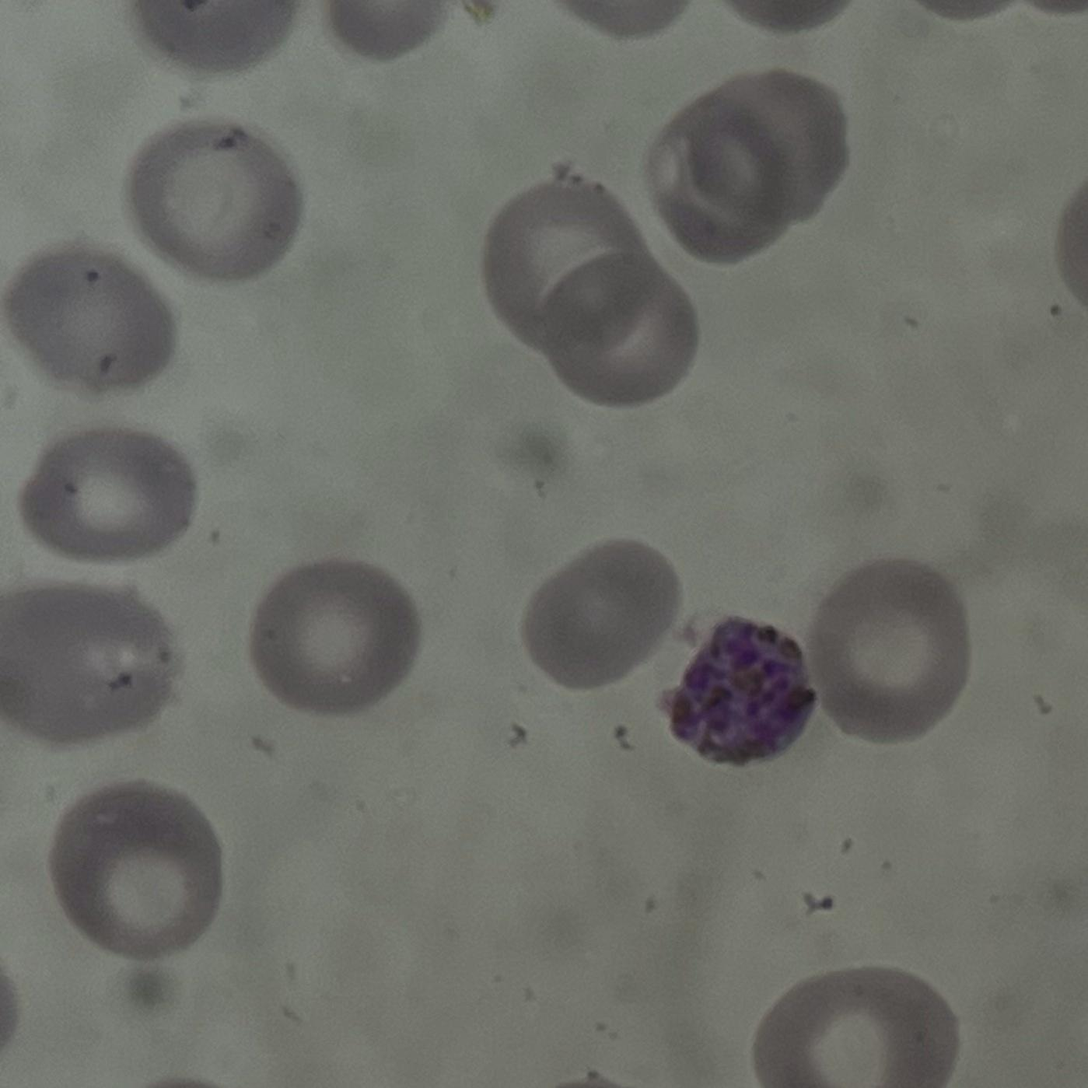Infected: (327, 672, 474, 814)
Uninfected: (679, 481, 910, 697), (822, 647, 1020, 846), (128, 50, 306, 223), (341, 807, 528, 971), (341, 2, 505, 177), (804, 129, 964, 300), (369, 248, 529, 418), (0, 756, 124, 960), (694, 5, 841, 174), (524, 19, 660, 192), (404, 525, 548, 674)
